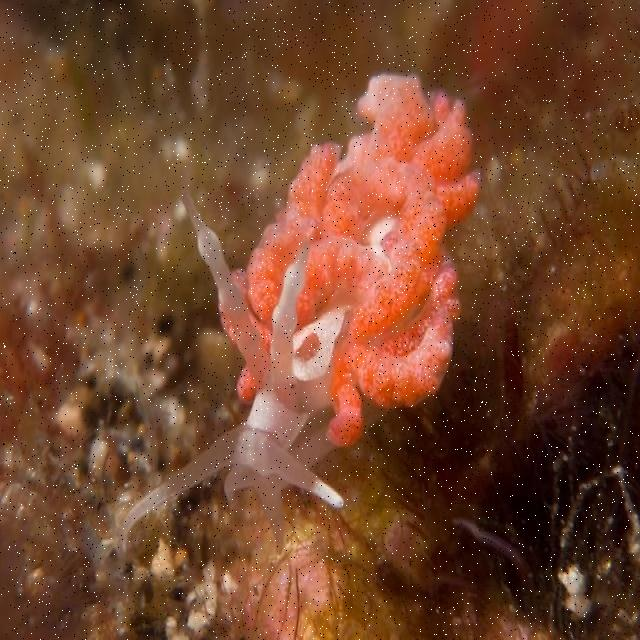reefs: (113, 73, 482, 557)
